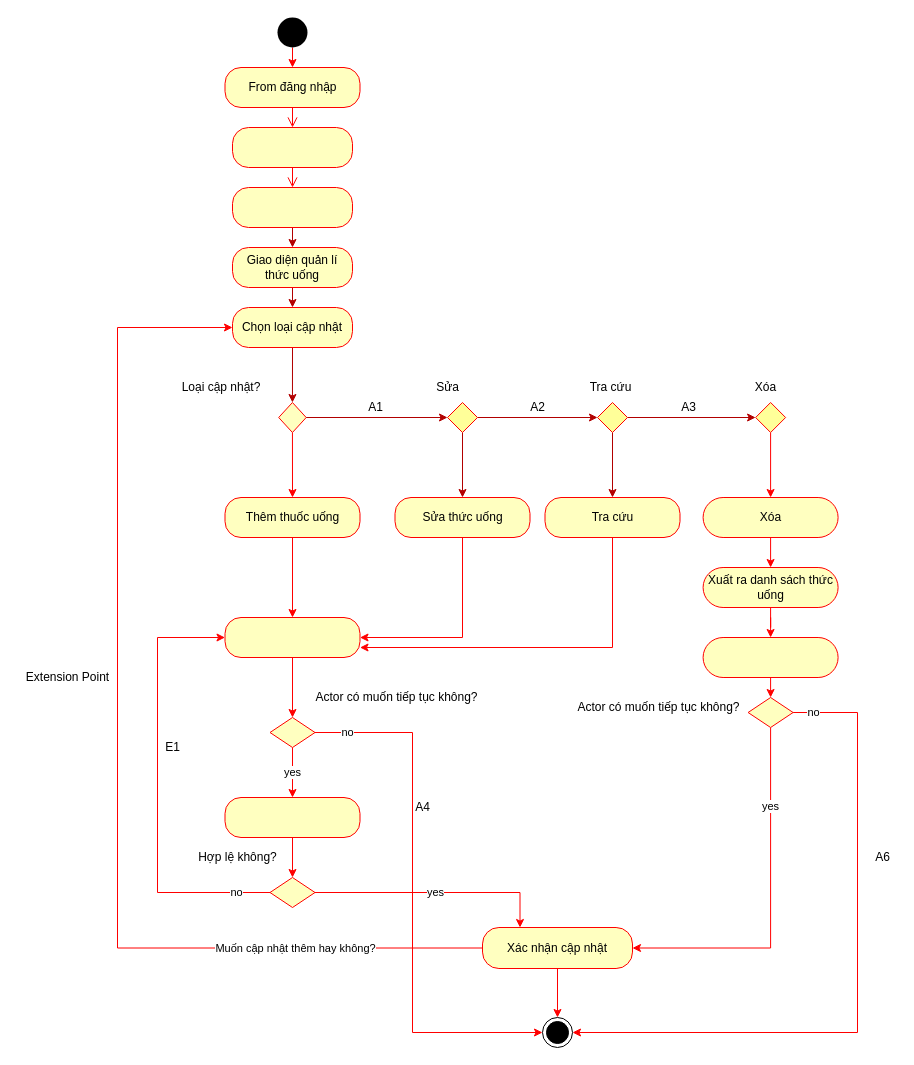
Some shapes in this 914 by 1065 pixel diagram are drawn without their labels. Each missing label, with the box of its shape:
Actor chọn chức năng quản lý thức uống: (232, 186, 352, 228)
Actor nhập form thức uống: (224, 616, 360, 658)
Chọn thức uống cần xóa: (702, 636, 838, 678)
Màn hình hệ thống: (232, 126, 352, 168)
Xác nhận với cơ sở dữ liệu: (224, 796, 360, 838)
